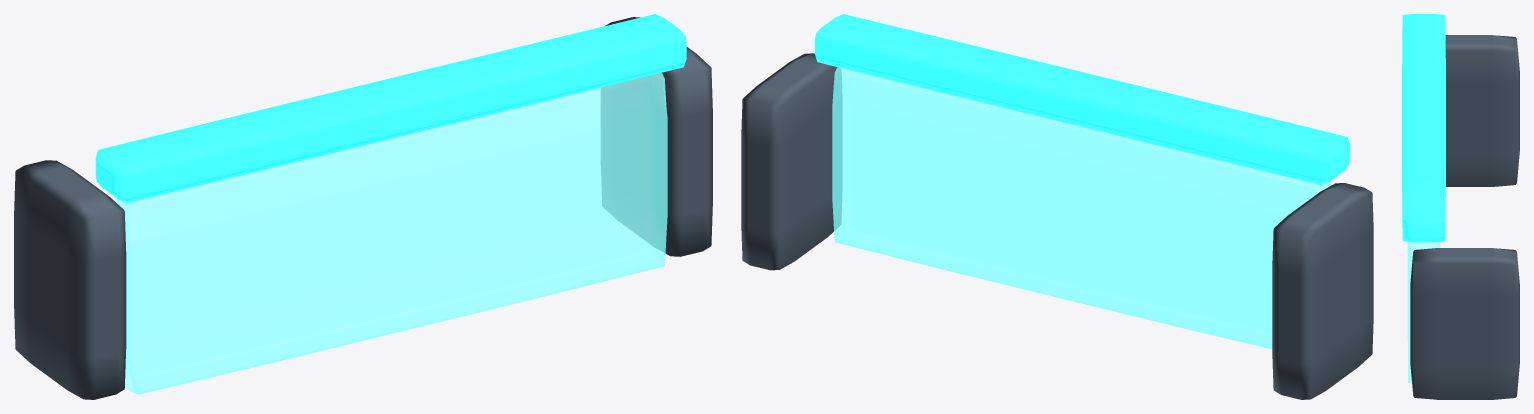
File: visor-holo.glb
3 views of the same model, side by side, from view 1: azimuth 30°, elevation 25°; view 2: azimuth 150°, elevation 25°; view 3: azimuth 270°, elevation 25° (orthographic). The views are drawn at different scales.
Parts seen in each view (by area): view 1: Visor, FrameTop, SideL, SideR; view 2: Visor, FrameTop, SideL, SideR; view 3: SideR, SideL, FrameTop, Visor.
Part boxes in pixels (bbox=[...]): Visor: bbox=[116, 73, 667, 394]; FrameTop: bbox=[95, 14, 686, 202]; SideL: bbox=[14, 160, 126, 399]; SideR: bbox=[601, 17, 712, 256]; Visor: bbox=[832, 67, 1330, 349]; FrameTop: bbox=[815, 14, 1349, 185]; SideL: bbox=[1272, 183, 1373, 399]; SideR: bbox=[741, 53, 842, 270]; SideR: bbox=[1410, 248, 1519, 399]; SideL: bbox=[1445, 35, 1519, 186]; FrameTop: bbox=[1402, 14, 1445, 242]; Visor: bbox=[1407, 242, 1440, 383].
Bounding box in the file's own units: 1.98 × 0.7 × 0.43.
